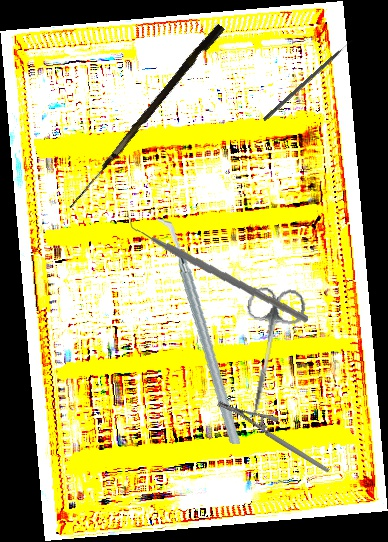Chopper: (129, 216, 267, 445), (126, 196, 309, 335)
Hook Surgical: (68, 20, 226, 216), (262, 38, 355, 123)
Iris Scissors: (228, 282, 308, 425)
Needle Holder: (214, 373, 331, 501)
